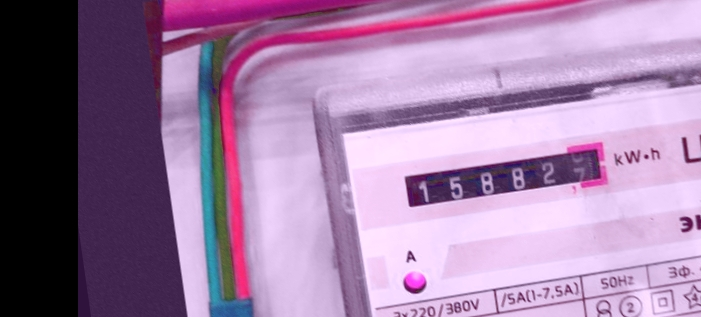1: (418, 177, 433, 204)
2: (540, 158, 560, 185)
5: (448, 173, 466, 201)
7: (572, 163, 590, 182)
8: (479, 168, 498, 195), (511, 164, 529, 191)
screen: (395, 134, 619, 222)
